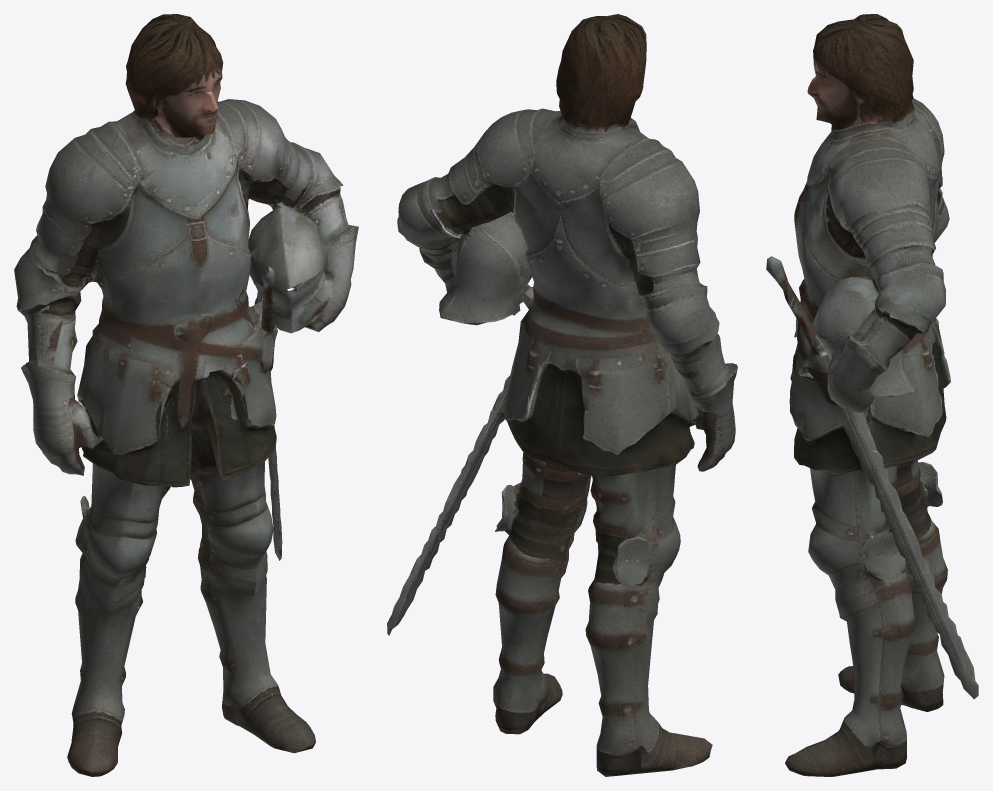
File: ser_duncan_knight_lod0.glb
3 renders of one model, left to right at view 1: azimuth 30°, elevation 25°; view 2: azimuth 150°, elevation 25°; view 3: azimuth 270°, elevation 25°, orthographic. The views are drawn at different scales.
Visible parts, largest first — view 1: ser_duncan_knight_lod0; view 2: ser_duncan_knight_lod0; view 3: ser_duncan_knight_lod0.
Part boxes in pixels (box(x1,y1,x2,y2)): ser_duncan_knight_lod0: box(14, 14, 358, 776); ser_duncan_knight_lod0: box(387, 14, 737, 776); ser_duncan_knight_lod0: box(766, 14, 978, 776).
Size of the model in its own units: 0.8685 by 1.85 by 0.5031.
1 material, 1 textured.
